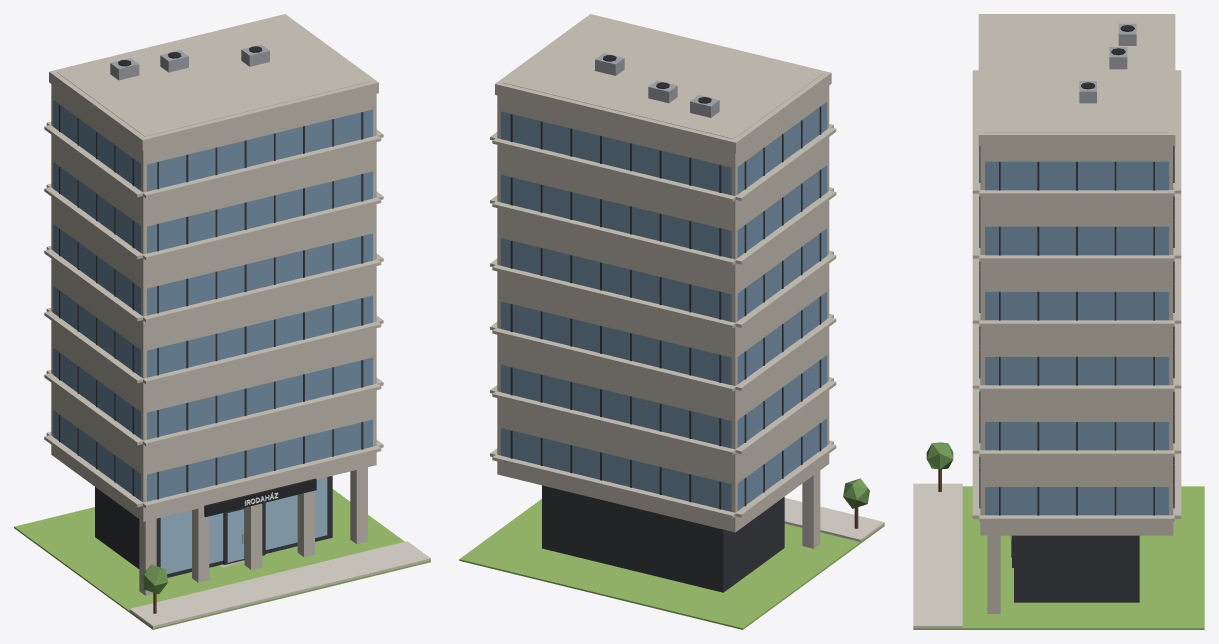
Rendered from Buro_yetmisler_1_Hafif.fbx.
3 renders of one model, left to right at view 1: azimuth 30°, elevation 25°; view 2: azimuth 150°, elevation 25°; view 3: azimuth 270°, elevation 25°, orthographic. The views are drawn at different scales.
Visible parts, largest first — view 1: Buro_yetmisler_1_Hafif; view 2: Buro_yetmisler_1_Hafif; view 3: Buro_yetmisler_1_Hafif.
Boxes of the visible parts, x1=… form: Buro_yetmisler_1_Hafif: x1=14, y1=14, x2=430, y2=629; Buro_yetmisler_1_Hafif: x1=459, y1=14, x2=884, y2=629; Buro_yetmisler_1_Hafif: x1=913, y1=14, x2=1204, y2=629.
Bounding box in the file's own units: 15 × 24.52 × 13.
